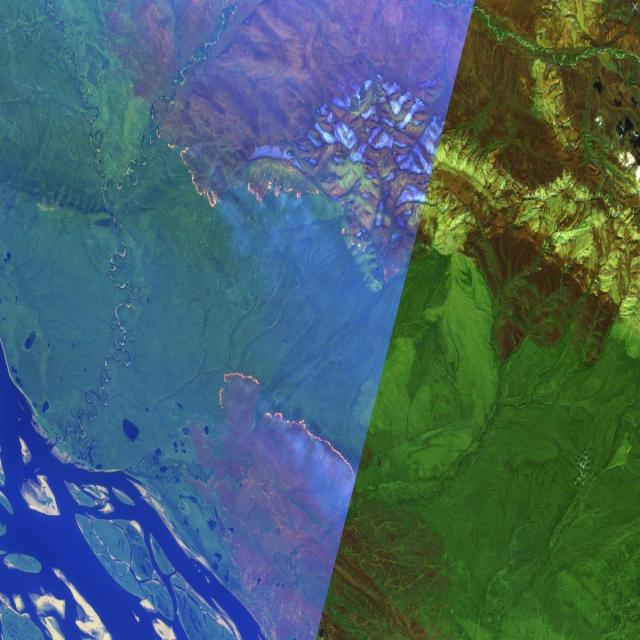fire: (160, 129, 372, 260), (214, 365, 356, 488)
